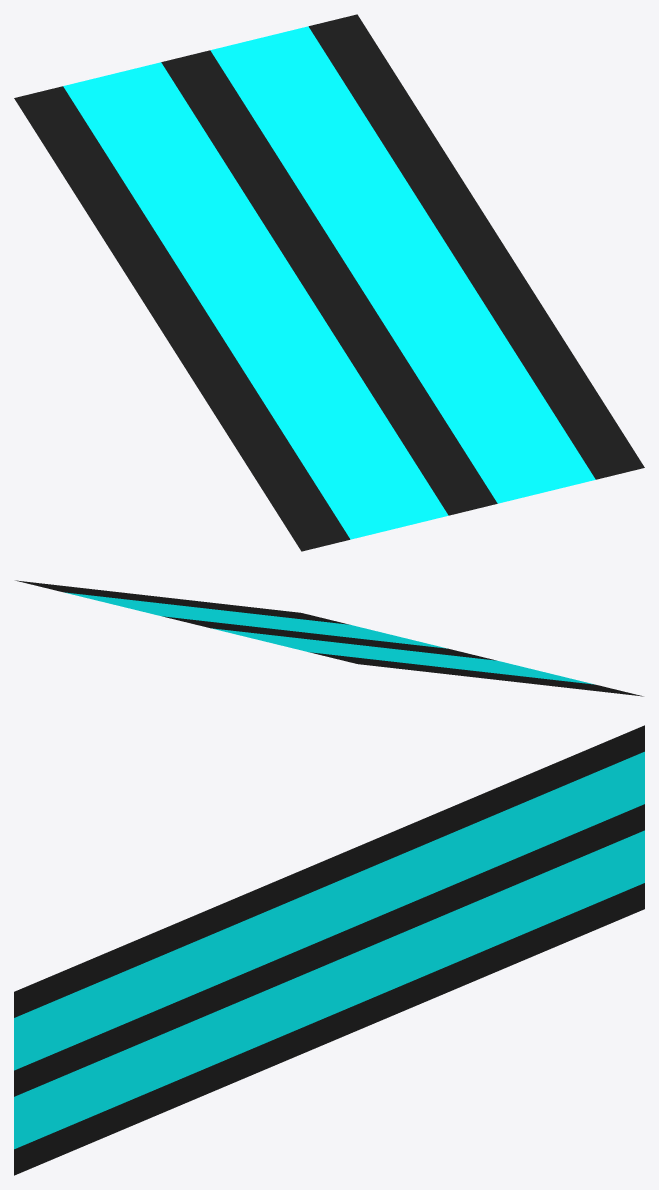
Rendered from RaceTrack_Up25Degree_8m 1.fbx.
The picture shows the model from 3 angles, top to bottom: view 1: azimuth 30°, elevation 25°; view 2: azimuth 150°, elevation 25°; view 3: azimuth 270°, elevation 25°; orthographic projection. The views are drawn at different scales.
Visible parts, largest first — view 1: Up25Degree_8m; view 2: Up25Degree_8m; view 3: Up25Degree_8m.
Part boxes in pixels (box(x1,y1,x2,y2)): Up25Degree_8m: box(14, 14, 644, 551); Up25Degree_8m: box(15, 580, 643, 696); Up25Degree_8m: box(14, 725, 644, 1175).
Size of the model in its own units: 5 by 3.38 by 7.25.
